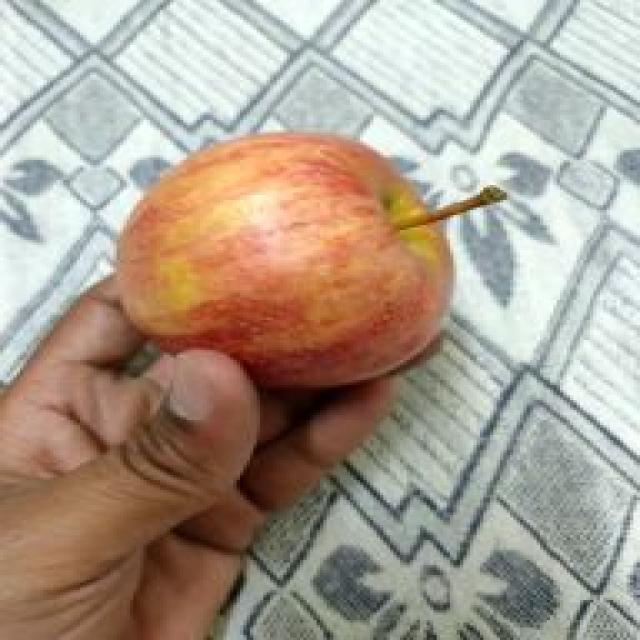Good_Apple: (113, 132, 507, 395)
